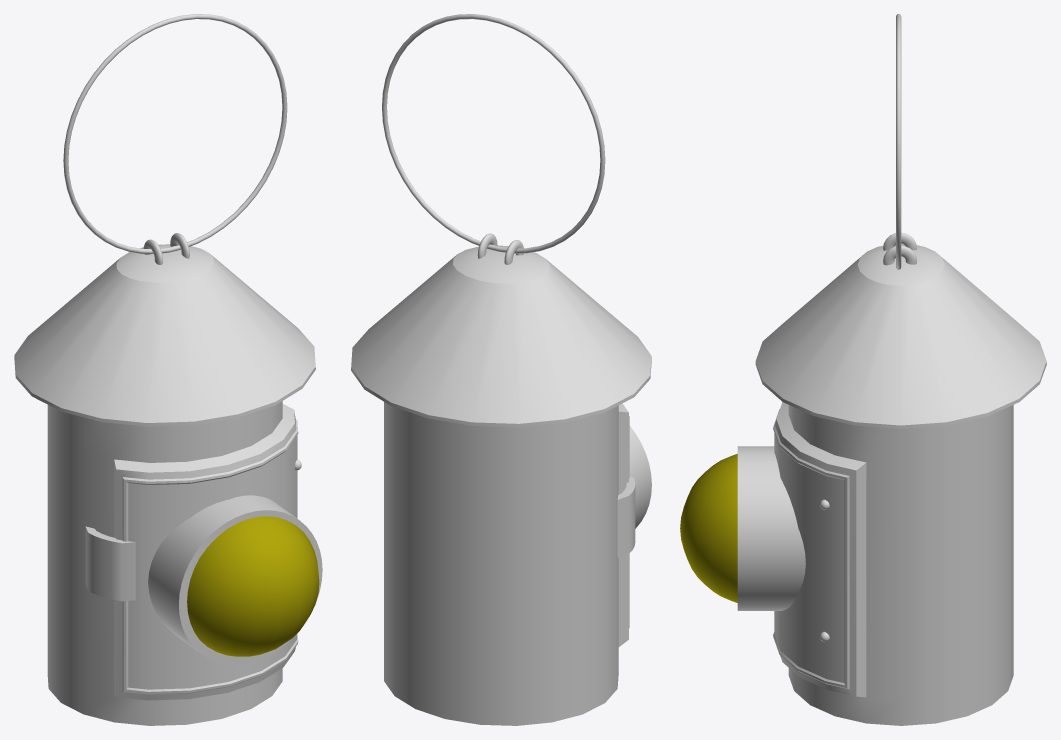
File: Lantern_Bjartur.fbx
The picture shows the model from 3 angles, left to right: view 1: azimuth 30°, elevation 25°; view 2: azimuth 150°, elevation 25°; view 3: azimuth 270°, elevation 25°; orthographic projection.
Parts seen in each view (by area): view 1: pSphere4; view 2: pSphere4; view 3: pSphere4.
Boxes of the visible parts, x1,y1,x2,y2 form: pSphere4: (14, 14, 322, 725); pSphere4: (351, 14, 651, 725); pSphere4: (680, 14, 1046, 725).
Size of the model in its own units: 201 by 476 by 242.
